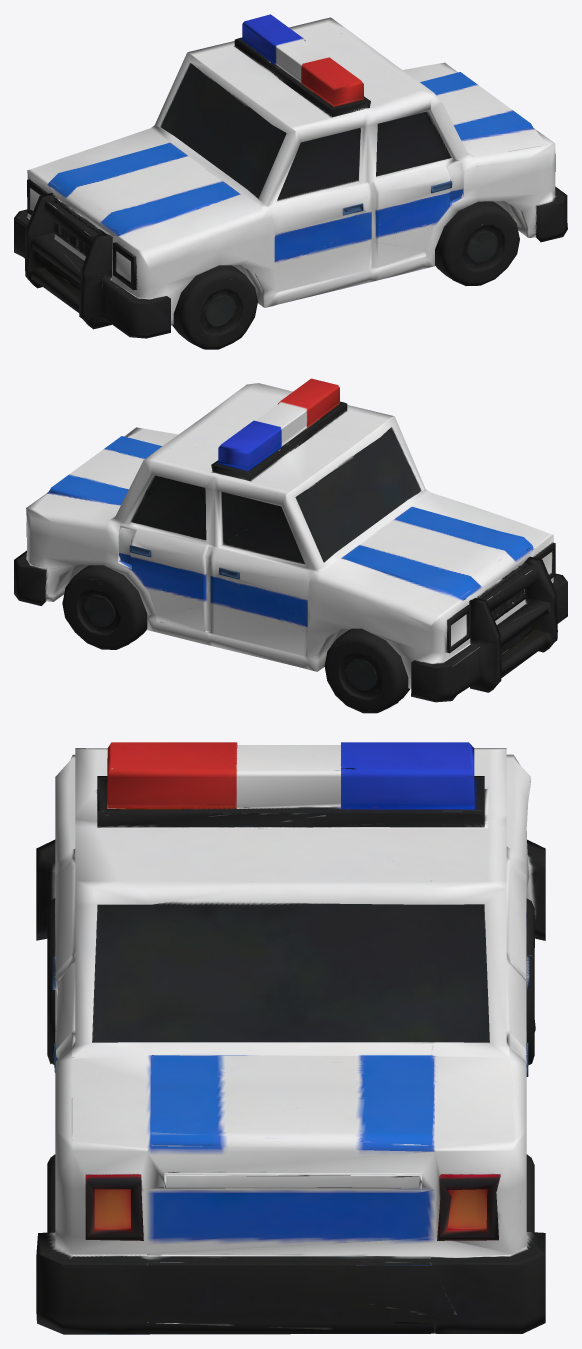
File: 50-police-car.glb
3 renders of one model, top to bottom at view 1: azimuth 30°, elevation 25°; view 2: azimuth 150°, elevation 25°; view 3: azimuth 270°, elevation 25°, orthographic. The views are drawn at different scales.
Visible parts, largest first — view 1: geometry_0; view 2: geometry_0; view 3: geometry_0.
Part boxes in pixels (box(x1,y1,x2,y2)): geometry_0: box(14, 14, 567, 349); geometry_0: box(14, 378, 567, 713); geometry_0: box(36, 742, 545, 1334).
Size of the model in its own units: 0.9546 by 0.4429 by 0.4604.
1 material, 1 textured.
